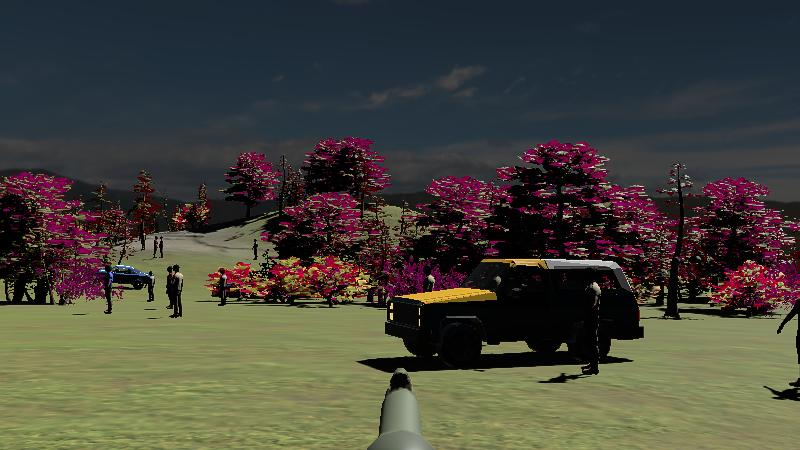Human: (777, 276, 800, 400), (172, 263, 184, 318)
car: (384, 256, 643, 368), (96, 264, 154, 290)
